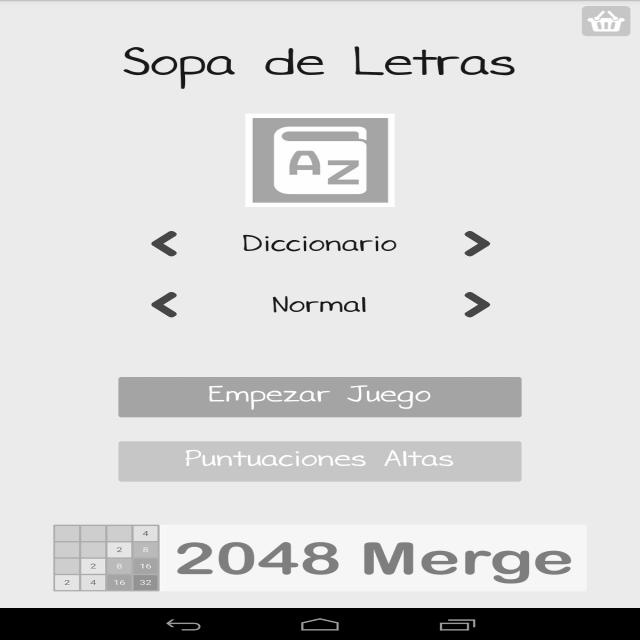ImageButton: (9, 19, 68, 57)
ImageView: (36, 90, 105, 133), (580, 22, 632, 54), (572, 361, 597, 376)
Spinner: (130, 116, 217, 133)
Switch: (505, 116, 556, 132)
TextView: (19, 170, 621, 347), (42, 360, 572, 377), (130, 84, 274, 116), (130, 116, 200, 133), (460, 118, 505, 131), (556, 118, 578, 131)
